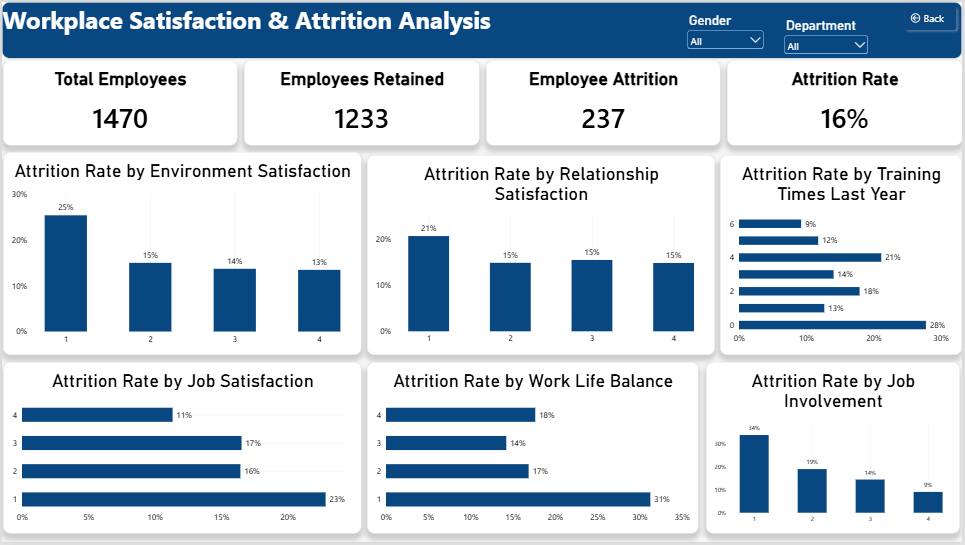

The page's visual inventory and layout, read from the dashboard file:
{"tool":"powerbi","page":{"name":"Workplace Satisfaction","canvas":[1920,1080],"ordinal":3},"visuals":[{"type":"textbox","box":[0,0,1920.2,113],"z":0},{"type":"card","title":"Total Employees","fields":{"Values":["CountNonNull(IBM_HR_Employee_Attrition.Employee Number)"]},"box":[2.2,116.6,468.7,170.6],"z":1000},{"type":"card","title":"Employees Retained","fields":{"Values":["IBM_HR_Employee_Attrition.Employees Retained"]},"box":[483.8,116.6,470.9,170.6],"z":2000},{"type":"card","title":"Employee Attrition","fields":{"Values":["Sum(IBM_HR_Employee_Attrition.Attrition Count)"]},"box":[967.7,116.6,468.7,170.6],"z":3000},{"type":"card","title":"Attrition Rate","fields":{"Values":["IBM_HR_Employee_Attrition.Attrition Rate"]},"box":[1449.1,116.6,470.9,170.6],"z":4000},{"type":"clusteredColumnChart","fields":{"Category":["IBM_HR_Employee_Attrition.Environment Satisfaction"],"Y":["IBM_HR_Employee_Attrition.Attrition Rate"]},"box":[2.2,300.2,717.1,406.1],"z":5000},{"type":"clusteredBarChart","fields":{"Category":["IBM_HR_Employee_Attrition.Job Satisfaction"],"Y":["IBM_HR_Employee_Attrition.Attrition Rate"]},"box":[2.2,719.3,717.1,343.4],"z":6000},{"type":"clusteredColumnChart","fields":{"Category":["IBM_HR_Employee_Attrition.Relationship Satisfaction"],"Y":["IBM_HR_Employee_Attrition.Attrition Rate"]},"box":[730.1,306.7,695.5,399.6],"z":7000},{"type":"barChart","fields":{"Category":["IBM_HR_Employee_Attrition.Work Life Balance"],"Y":["IBM_HR_Employee_Attrition.Attrition Rate"]},"box":[730.1,719.3,663.1,343.4],"z":8000},{"type":"barChart","fields":{"Category":["IBM_HR_Employee_Attrition.Training Times Last Year"],"Y":["IBM_HR_Employee_Attrition.Attrition Rate"]},"box":[1436.4,306.7,483.8,399.6],"z":9000},{"type":"clusteredColumnChart","fields":{"Category":["IBM_HR_Employee_Attrition.Job Involvement"],"Y":["IBM_HR_Employee_Attrition.Attrition Rate"]},"box":[1408.3,719.3,507.6,343.4],"z":10000},{"type":"actionButton","box":[1795,0,122.5,65],"z":11000},{"type":"slicer","fields":{"Values":["IBM_HR_Employee_Attrition.Department"]},"box":[1560.9,29.4,177.1,75.6],"z":12000},{"type":"slicer","fields":{"Values":["IBM_HR_Employee_Attrition.Gender"]},"box":[1365.1,19.4,162,75.6],"z":13000}]}

Visuals, with their boxes in screenshot pixels (x1, y1, x2, y2), scaled from the page's 1920x1080 canvas onto the 965x545 screenshot:
textbox: l=0, t=0, r=964, b=57
"Total Employees" card: l=1, t=59, r=237, b=145
"Employees Retained" card: l=243, t=59, r=480, b=145
"Employee Attrition" card: l=486, t=59, r=722, b=145
"Attrition Rate" card: l=728, t=59, r=964, b=145
clusteredColumnChart - IBM_HR_Employee_Attrition.Environment Satisfaction x IBM_HR_Employee_Attrition.Attrition Rate: l=1, t=151, r=362, b=356
clusteredBarChart - IBM_HR_Employee_Attrition.Job Satisfaction x IBM_HR_Employee_Attrition.Attrition Rate: l=1, t=363, r=362, b=536
clusteredColumnChart - IBM_HR_Employee_Attrition.Relationship Satisfaction x IBM_HR_Employee_Attrition.Attrition Rate: l=367, t=155, r=717, b=356
barChart - IBM_HR_Employee_Attrition.Work Life Balance x IBM_HR_Employee_Attrition.Attrition Rate: l=367, t=363, r=700, b=536
barChart - IBM_HR_Employee_Attrition.Training Times Last Year x IBM_HR_Employee_Attrition.Attrition Rate: l=722, t=155, r=964, b=356
clusteredColumnChart - IBM_HR_Employee_Attrition.Job Involvement x IBM_HR_Employee_Attrition.Attrition Rate: l=708, t=363, r=963, b=536
actionButton: l=902, t=0, r=964, b=33
slicer - IBM_HR_Employee_Attrition.Department: l=785, t=15, r=874, b=53
slicer - IBM_HR_Employee_Attrition.Gender: l=686, t=10, r=768, b=48
